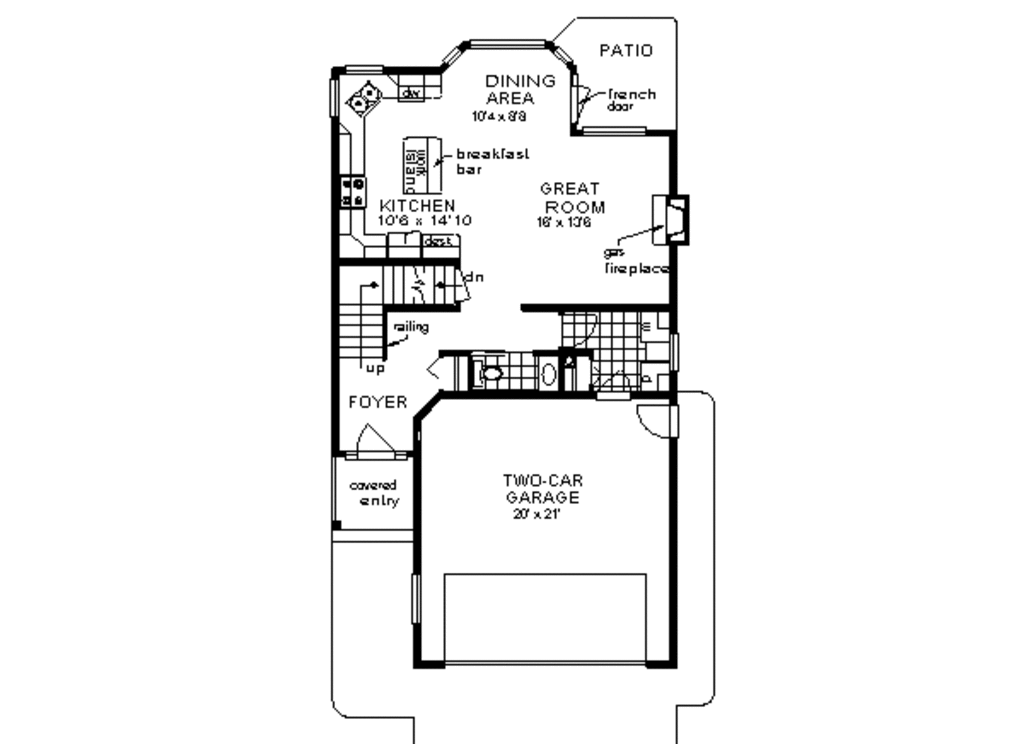door: (627, 397, 693, 441), (343, 420, 398, 467), (558, 310, 595, 343)
large_sink: (465, 357, 508, 387)
small_sink: (540, 354, 563, 396)
stairs: (335, 264, 467, 369)
twin_sink: (344, 81, 404, 133)
window: (443, 36, 581, 63), (402, 561, 431, 631), (658, 330, 686, 381), (583, 119, 649, 136), (343, 58, 386, 80), (324, 76, 342, 122)
